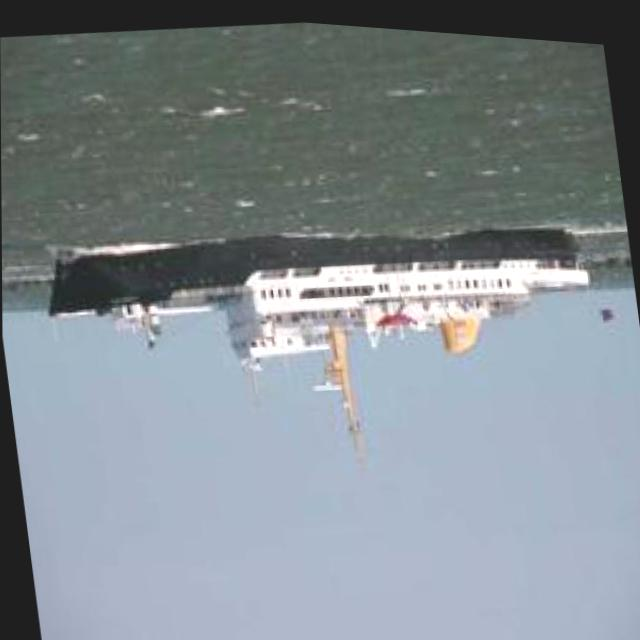ship2: (45, 217, 588, 458)
